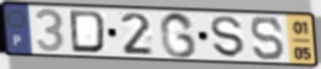2: (119, 12, 157, 57)
3: (34, 7, 68, 54)
D: (68, 9, 108, 56)
G: (158, 10, 199, 60)
S: (249, 15, 287, 62), (208, 14, 247, 59)
